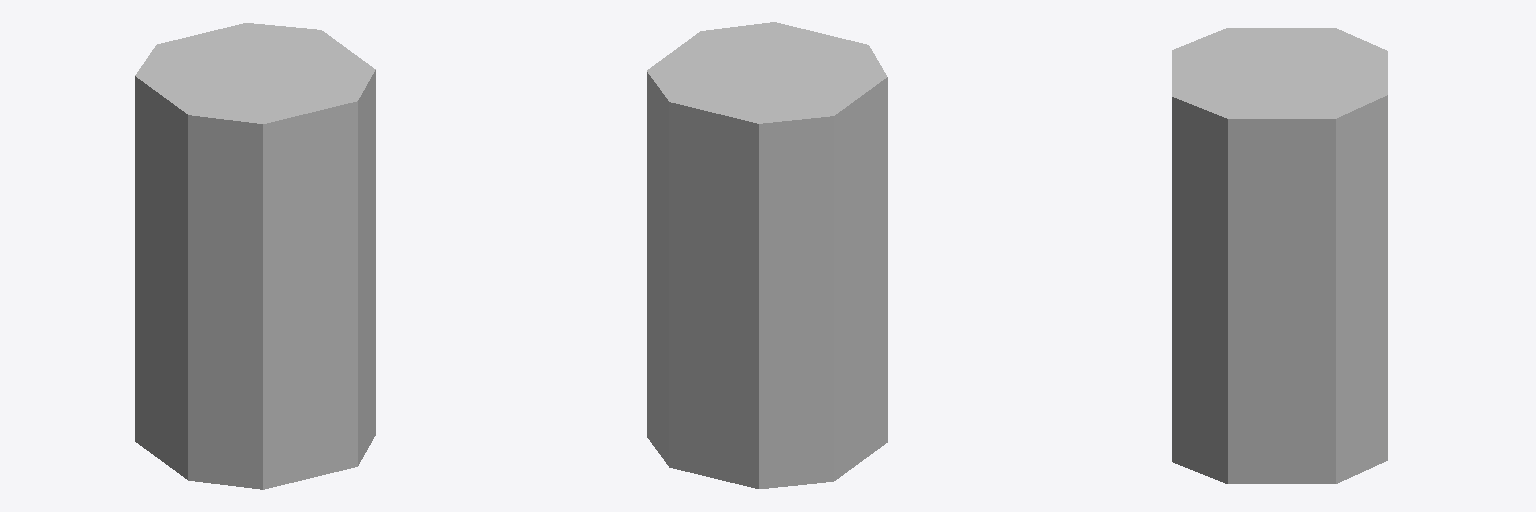
The model's file is PLAYER_MODEL_1.obj.
3 renders of one model, left to right at view 1: azimuth 30°, elevation 25°; view 2: azimuth 150°, elevation 25°; view 3: azimuth 270°, elevation 25°, orthographic.
Parts seen in each view (by area): view 1: HITBOX_MODEL_Cube.002; view 2: HITBOX_MODEL_Cube.002; view 3: HITBOX_MODEL_Cube.002.
Part boxes in pixels (x1,y1,x2,y2): HITBOX_MODEL_Cube.002: (135,23,375,489); HITBOX_MODEL_Cube.002: (647,22,887,488); HITBOX_MODEL_Cube.002: (1172,28,1387,483).
Size of the model in its own units: 1.98 by 3.7 by 1.99.